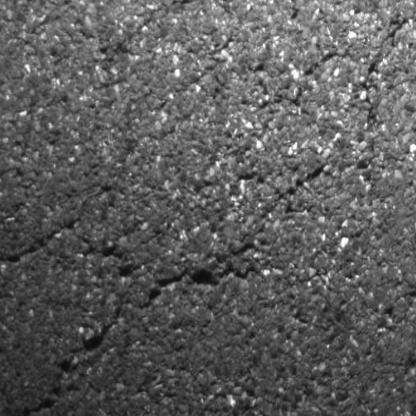Cracks: (232, 2, 416, 208), (62, 241, 304, 362), (0, 214, 134, 271)
